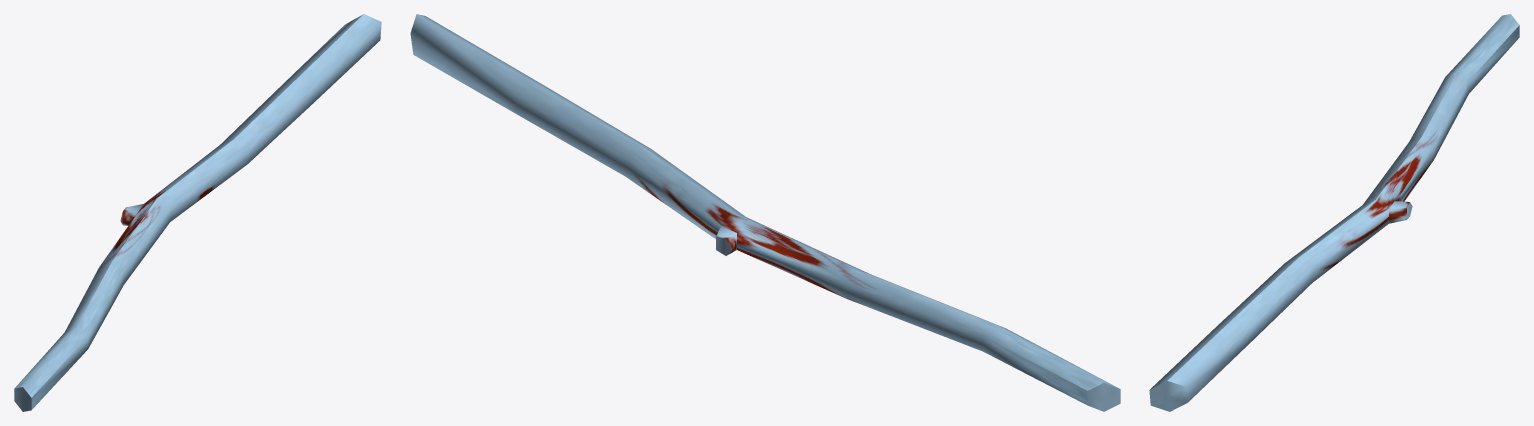
3 renders of one model, left to right at view 1: azimuth 90°, elevation 25°; view 2: azimuth 150°, elevation 25°; view 3: azimuth 270°, elevation 25°, orthographic. The views are drawn at different scales.
Visible parts, largest first — view 1: Joint_0_Object_0, Joint_0_Object_1; view 2: Joint_0_Object_0, Joint_0_Object_1; view 3: Joint_0_Object_0, Joint_0_Object_1.
Part boxes in pixels (x1=…): Joint_0_Object_0: x1=14, y1=14, x2=381, y2=409; Joint_0_Object_1: x1=14, y1=387, x2=31, y2=411; Joint_0_Object_0: x1=410, y1=14, x2=1118, y2=405; Joint_0_Object_1: x1=716, y1=236, x2=1120, y2=411; Joint_0_Object_0: x1=1150, y1=14, x2=1519, y2=402; Joint_0_Object_1: x1=1149, y1=202, x2=1412, y2=411.
Size of the model in its own units: 1181 by 50 by 491.
